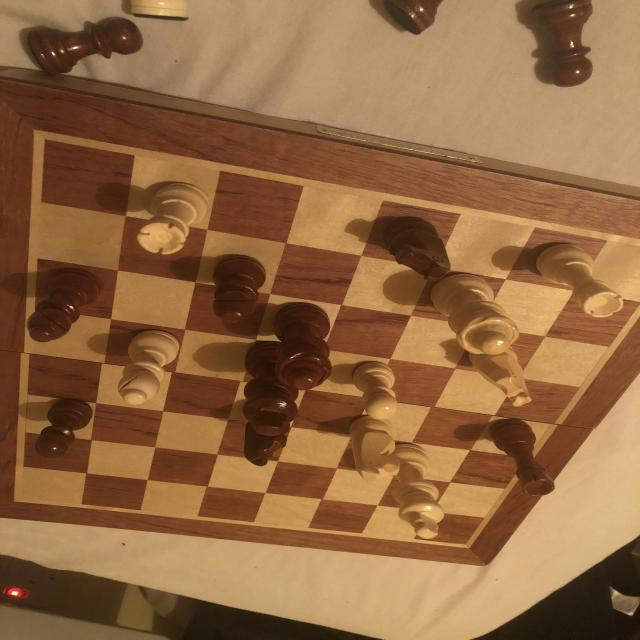black_bishop: (26, 270, 100, 344), (212, 255, 264, 328)
black_knight: (383, 210, 452, 286), (236, 424, 292, 470)
black_pawn: (19, 15, 143, 76), (534, 0, 596, 88), (32, 397, 94, 459)
black_rook: (494, 420, 556, 498)
white_bishop: (118, 328, 180, 406)
white_king: (390, 436, 442, 542)
white_knight: (464, 352, 534, 410), (346, 414, 402, 484)
white_pawn: (352, 362, 399, 422)
white_queen: (430, 272, 514, 354)
white_rook: (536, 239, 624, 323), (134, 178, 212, 258)
